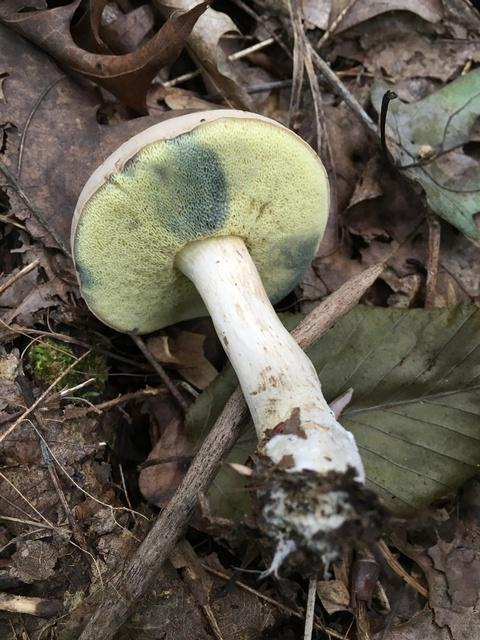edible_mushroom: (68, 107, 375, 581)
